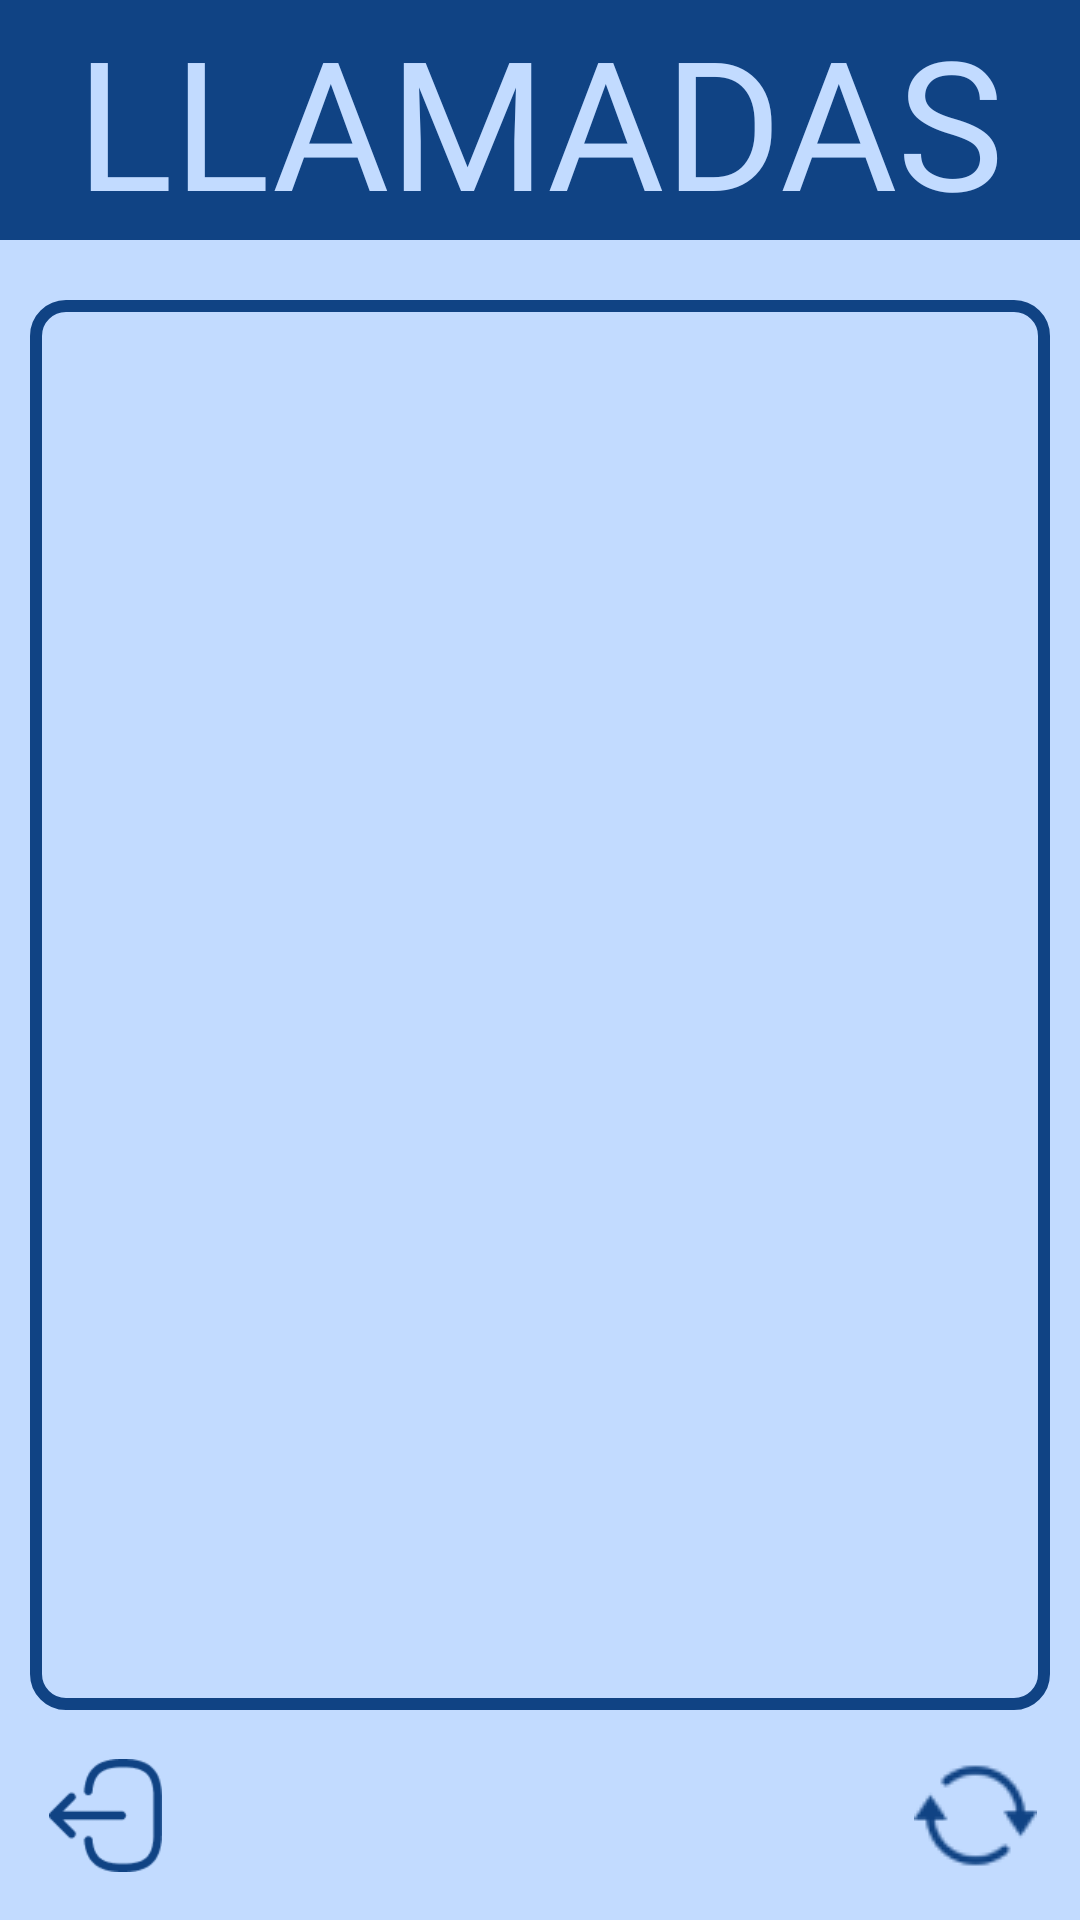

Screen size 1080 x 1920. Icon name, then its box in pixels as (x1, y1, x2, y2):
REFRESCAR: (914, 1765, 1037, 1866)
